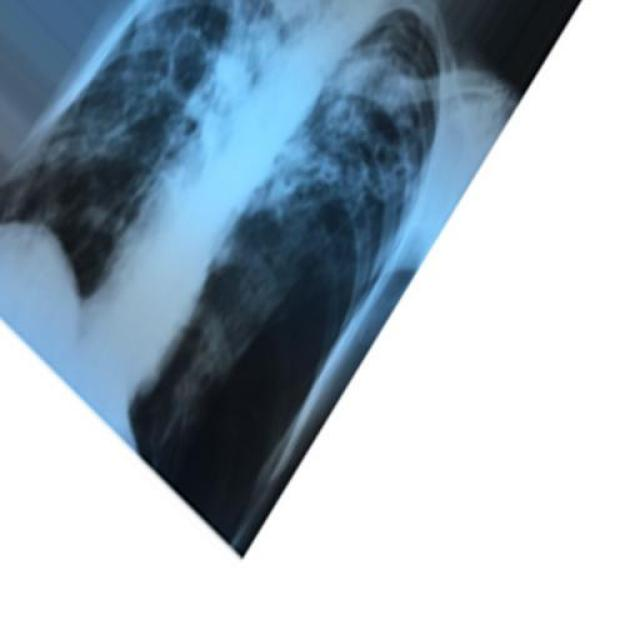tuberculosis: (0, 0, 584, 562)
